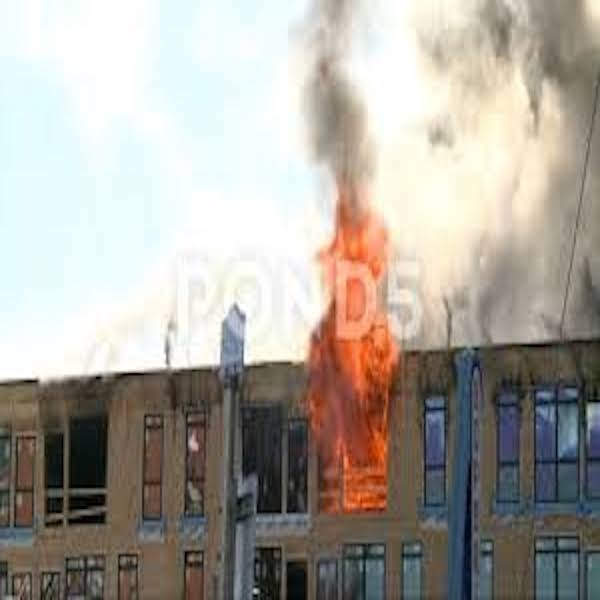fire: (322, 155, 395, 506)
